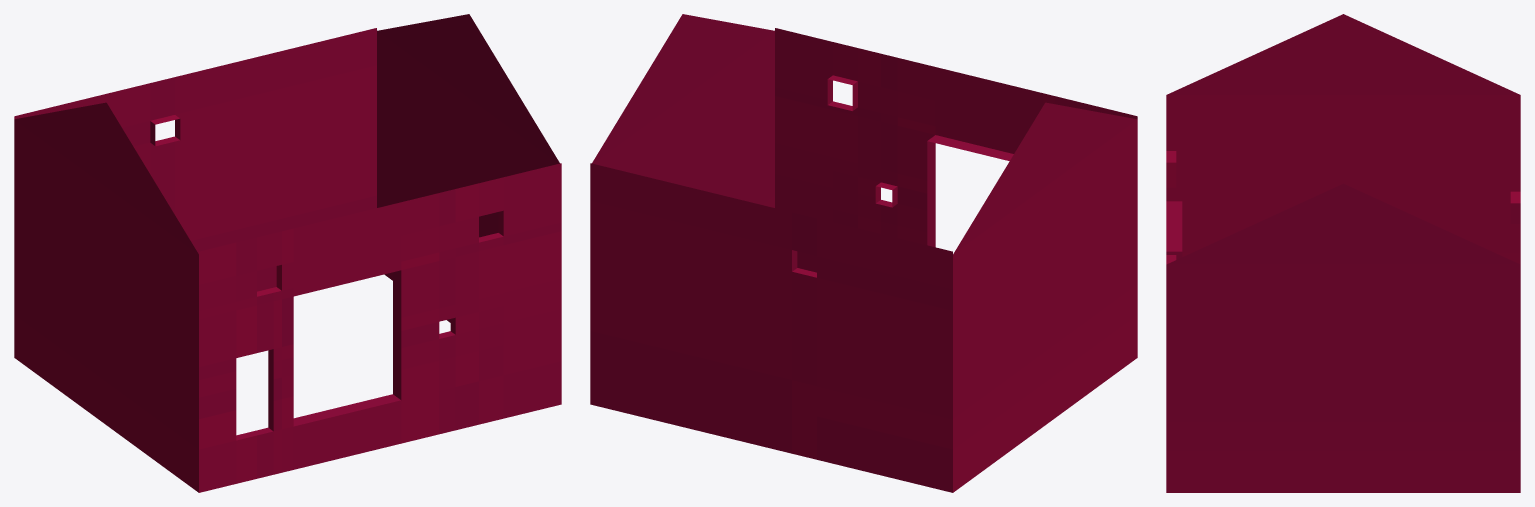
File: SM_Bld_237_Masonry.glb
The picture shows the model from 3 angles, left to right: view 1: azimuth 30°, elevation 25°; view 2: azimuth 150°, elevation 25°; view 3: azimuth 270°, elevation 25°; orthographic projection. The views are drawn at different scales.
Visible parts, largest first — view 1: SM_Bld_237_Masonry; view 2: SM_Bld_237_Masonry; view 3: SM_Bld_237_Masonry.
Boxes of the visible parts, bbox=[...] form: SM_Bld_237_Masonry: bbox=[14, 14, 561, 492]; SM_Bld_237_Masonry: bbox=[590, 14, 1137, 492]; SM_Bld_237_Masonry: bbox=[1166, 14, 1520, 492].
Bounding box in the file's own units: 8.76 × 7.45 × 7.73.
